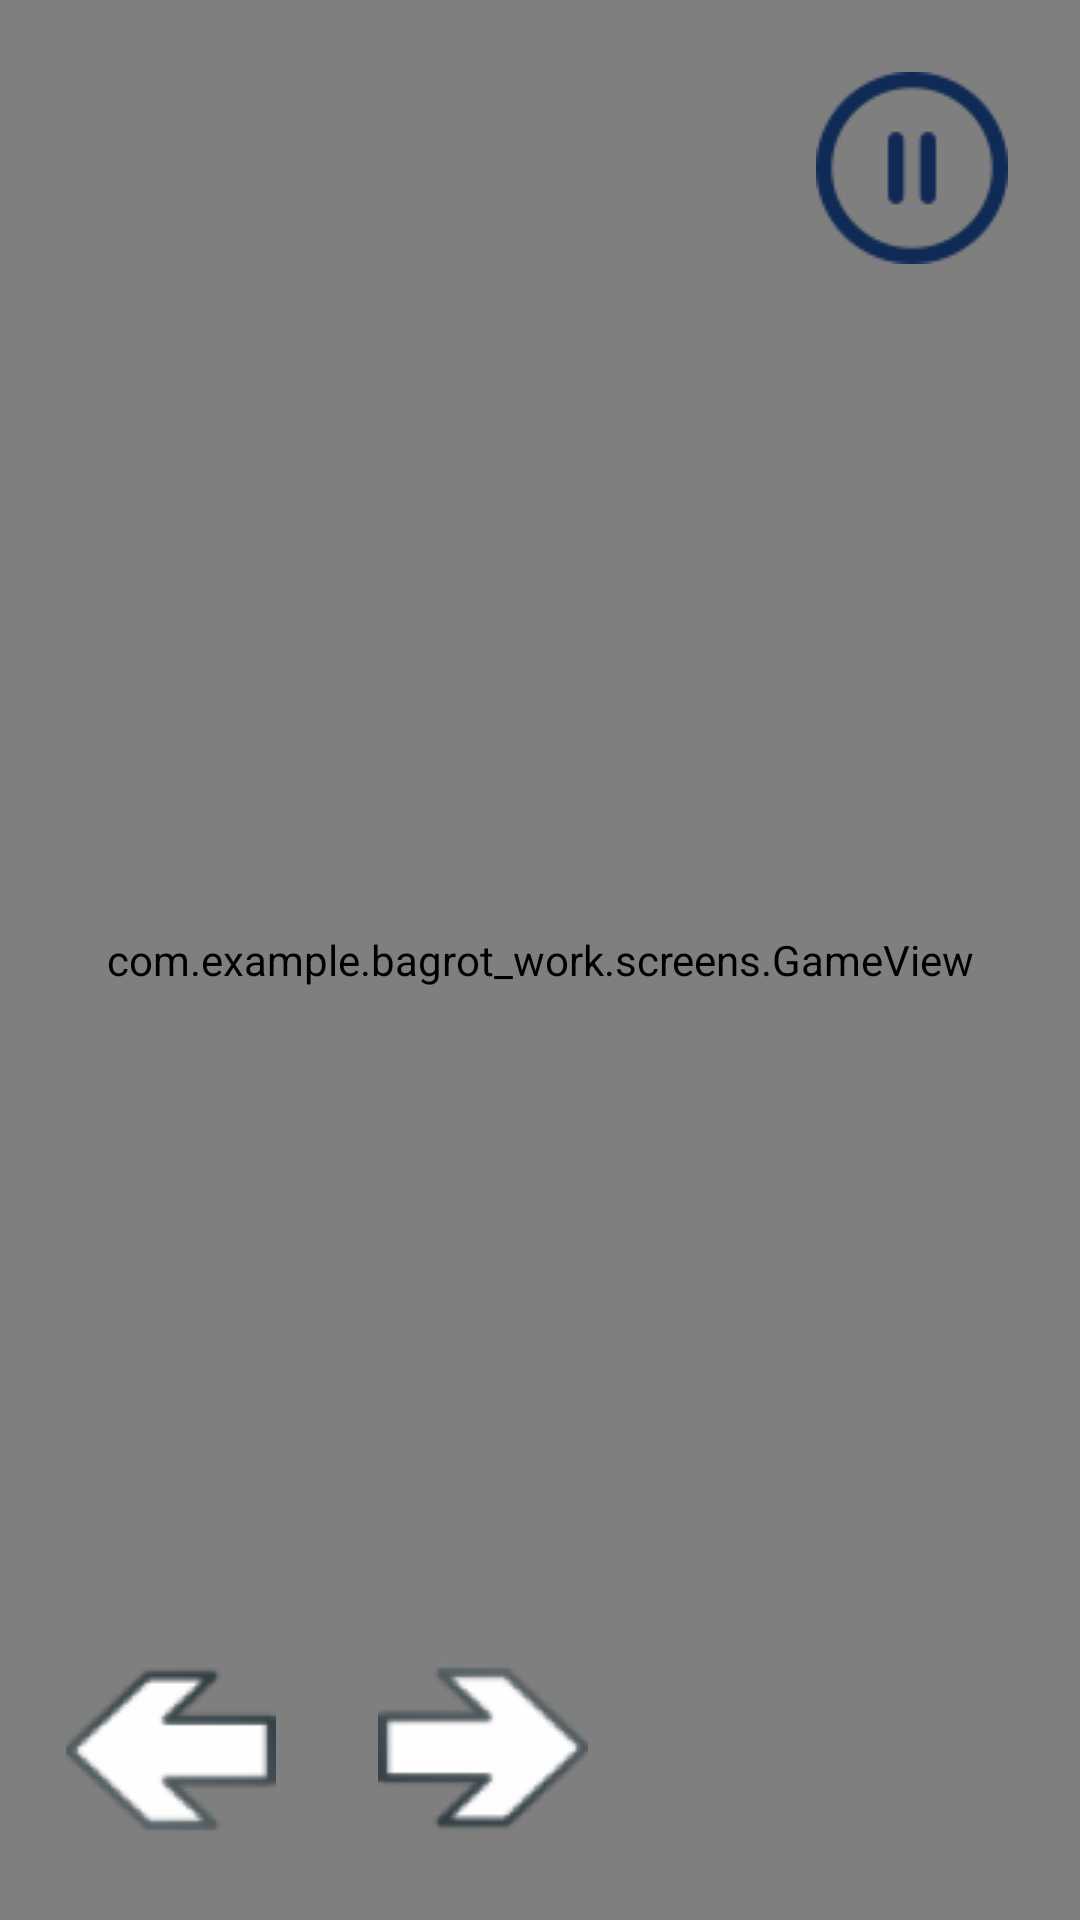

Named icons in this screenshot (1080 x 1920) and their bounding boxes, {"x1": x1, "y1": y1, "x2": x2, "y2": y2}:
pause: {"x1": 816, "y1": 72, "x2": 1008, "y2": 264}
